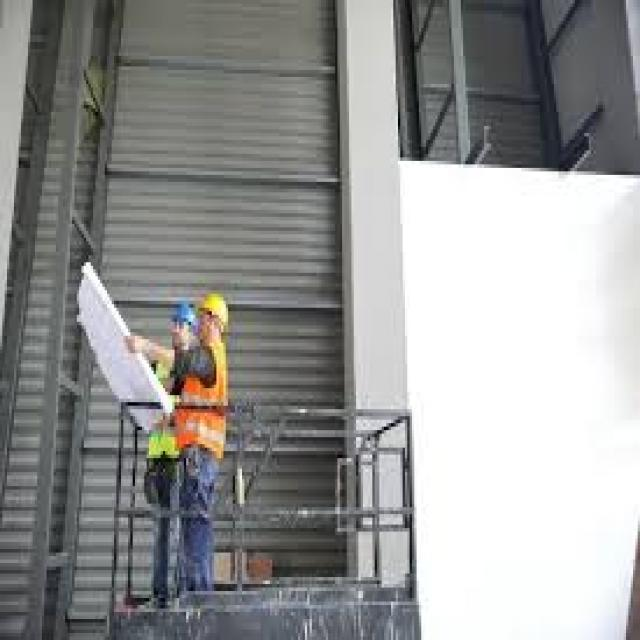Reflective-Jacket: (140, 339, 230, 490)
Safety-Helmet: (194, 284, 238, 339), (163, 290, 200, 340)
